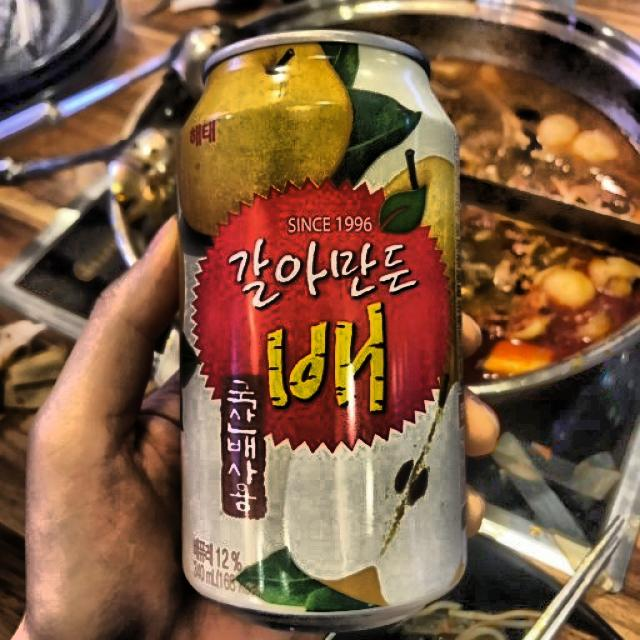galamandeunbae: (179, 31, 472, 622)
